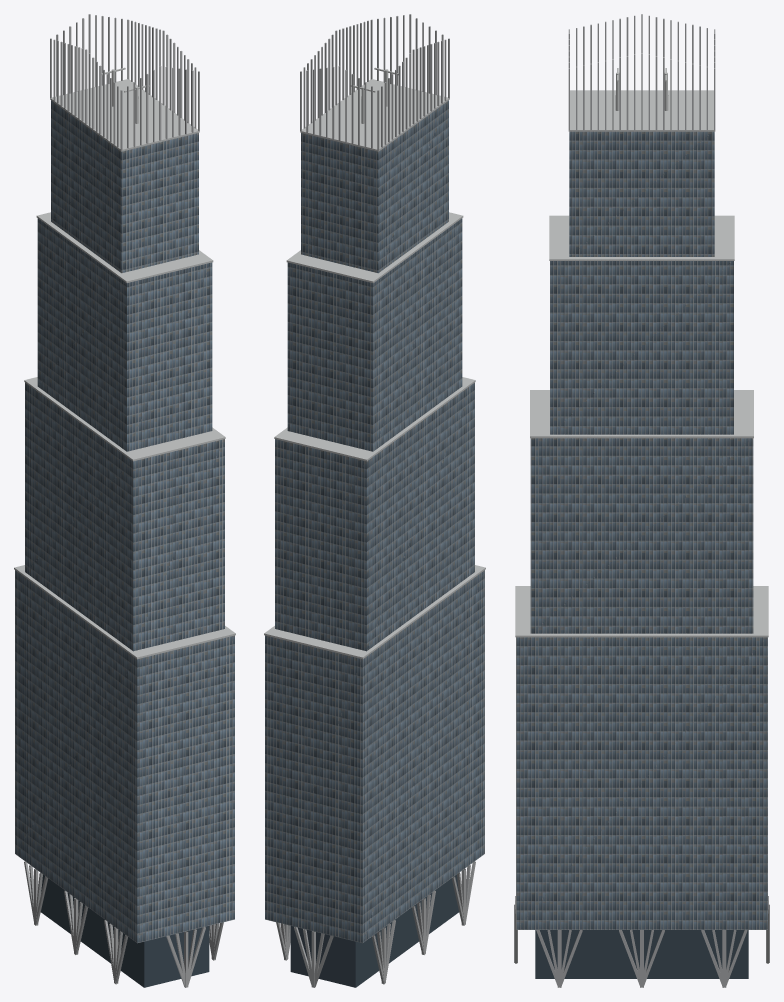
Rendered from park_270.glb.
The picture shows the model from 3 angles, left to right: view 1: azimuth 30°, elevation 25°; view 2: azimuth 150°, elevation 25°; view 3: azimuth 270°, elevation 25°; orthographic projection. The views are drawn at different scales.
Visible parts, largest first — view 1: park_270; view 2: park_270; view 3: park_270.
Part boxes in pixels (left/top/right/bottom): park_270: left=14, top=14, right=235, bottom=987; park_270: left=264, top=14, right=485, bottom=987; park_270: left=514, top=14, right=769, bottom=987.
Size of the model in its own units: 49.18 by 423 by 106.
2 materials, 2 textured.
